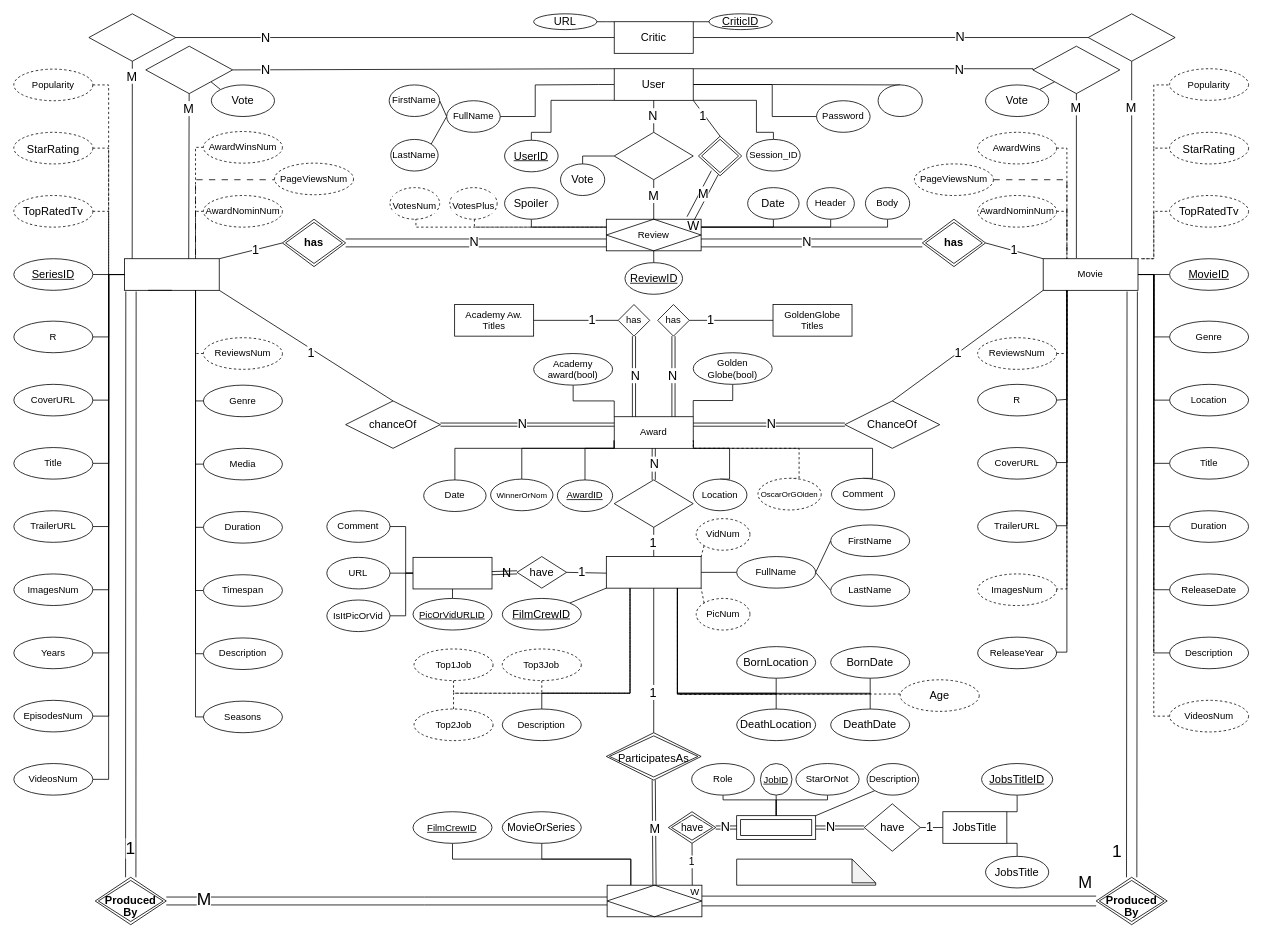
Image size: 1262x943. Some labels were removed from this diagram. The box of each missing label's shape, as (x1, y1, x2, y2) in pixels:
Email: (877, 84, 922, 117)
FilmCrew: (606, 556, 701, 588)
Job: (736, 815, 816, 839)
make: (698, 135, 742, 176)
MemberOfCrew: (606, 884, 702, 917)
ParticipateIn: (613, 479, 693, 527)
PicOrVidURL: (412, 557, 492, 589)
ReviewsM: (1087, 13, 1175, 61)
ReviewsS: (88, 13, 176, 61)
RoleOnlyAvailableWhenActor: (736, 858, 876, 885)
Series: (124, 258, 219, 290)
UsersVote: (613, 132, 693, 180)
VotesForM: (1032, 45, 1120, 94)
VotesForS: (145, 45, 233, 94)
